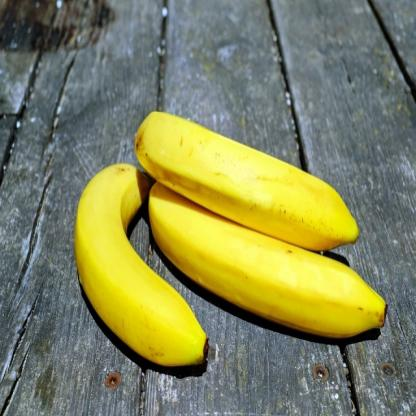banana: (143, 181, 385, 366), (120, 106, 364, 253), (65, 155, 211, 385)
